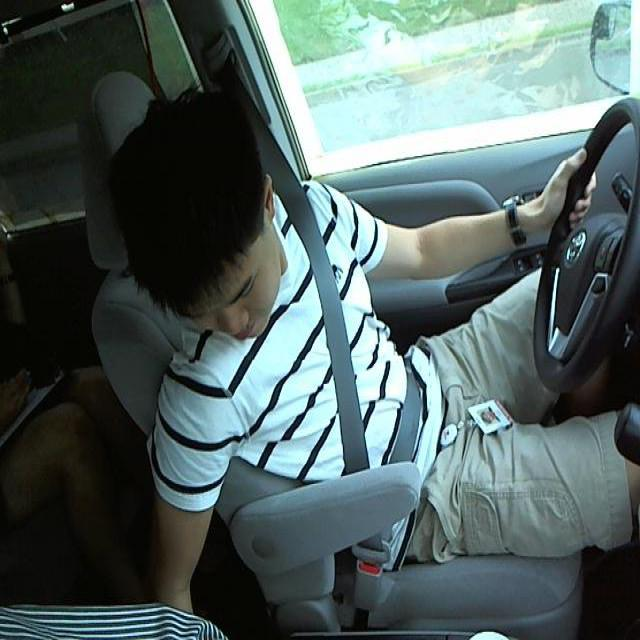seatbelt: (290, 206, 407, 462)
